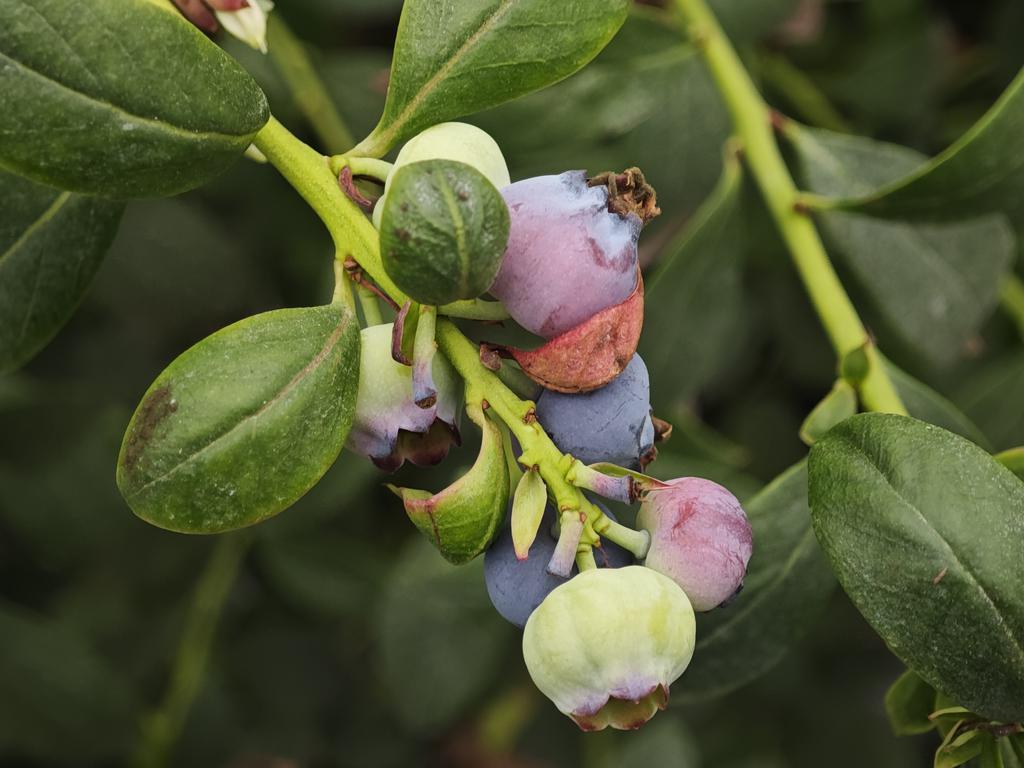Semi-RipeBlueBerry: (489, 169, 652, 337), (644, 473, 759, 617)
UnripeBlueBerry: (520, 562, 700, 736)
